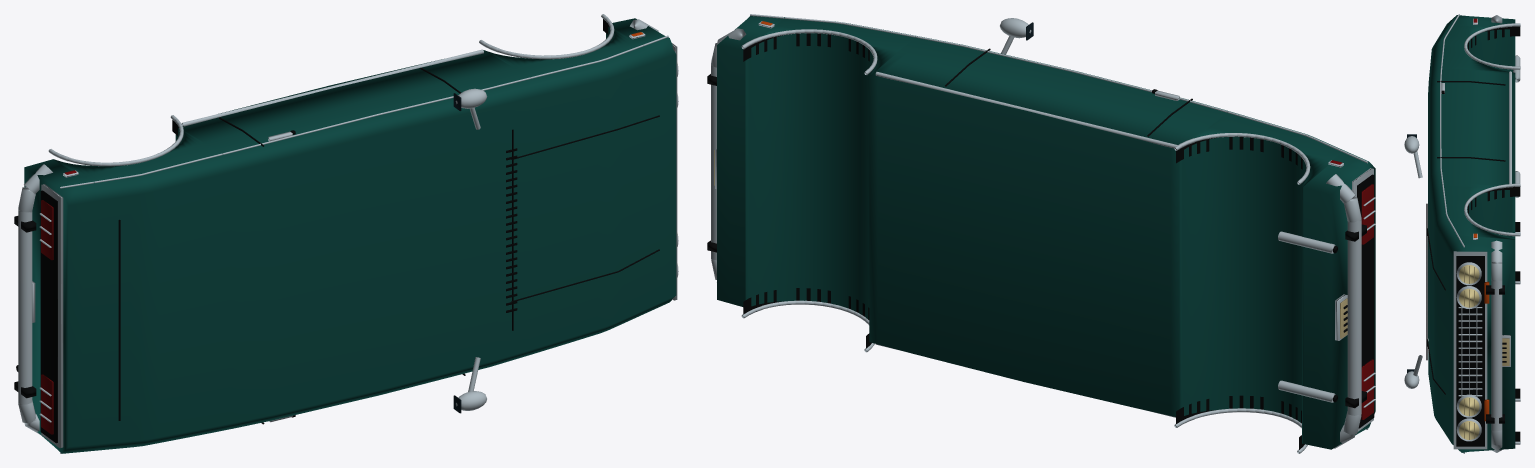
The model's file is Car70Body0.obj.
3 views of the same model, side by side, from view 1: azimuth 30°, elevation 25°; view 2: azimuth 150°, elevation 25°; view 3: azimuth 270°, elevation 25° (orthographic). The views are drawn at different scales.
Parts seen in each view (by area): view 1: Car70Body0; view 2: Car70Body0; view 3: Car70Body0.
Boxes of the visible parts, x1,y1,x2,y2 form: Car70Body0: (14, 14, 678, 453); Car70Body0: (707, 14, 1375, 453); Car70Body0: (1404, 14, 1520, 453).
Bounding box in the file's own units: 466 × 220 × 93.09.
